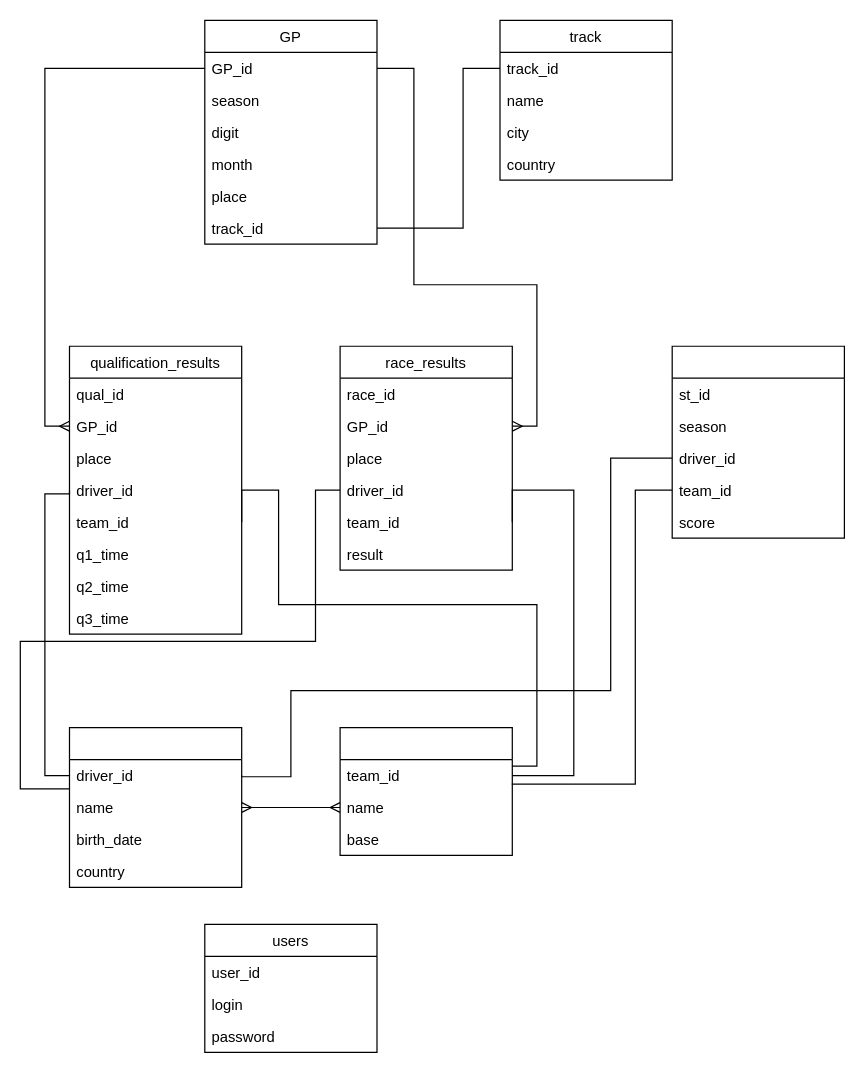
This 865x1073 diagram has some shape labels left out. The box of each missing label's shape, as (x1, y1, x2, y2) in pixels:
drivers: (68, 726, 242, 887)
season_standings: (671, 345, 844, 538)
teams: (339, 726, 512, 855)
